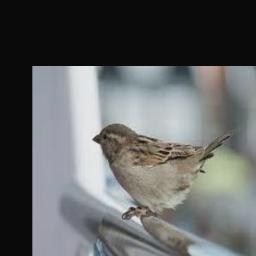Sparrow: (92, 124, 235, 219)
